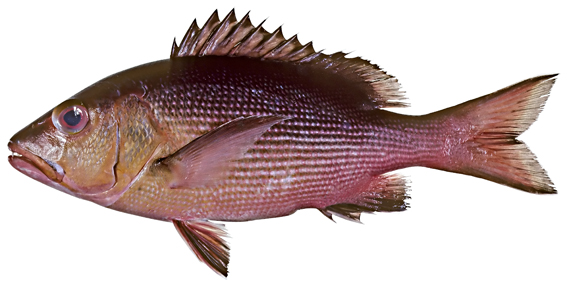fish: (7, 7, 561, 280)
